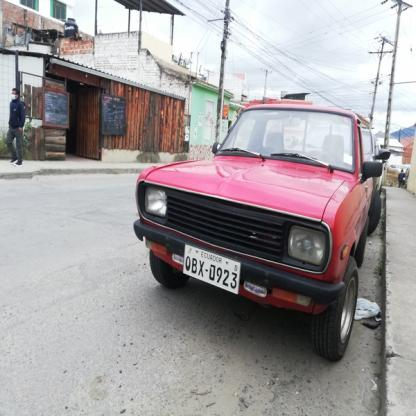Placa: (183, 239, 243, 293)
